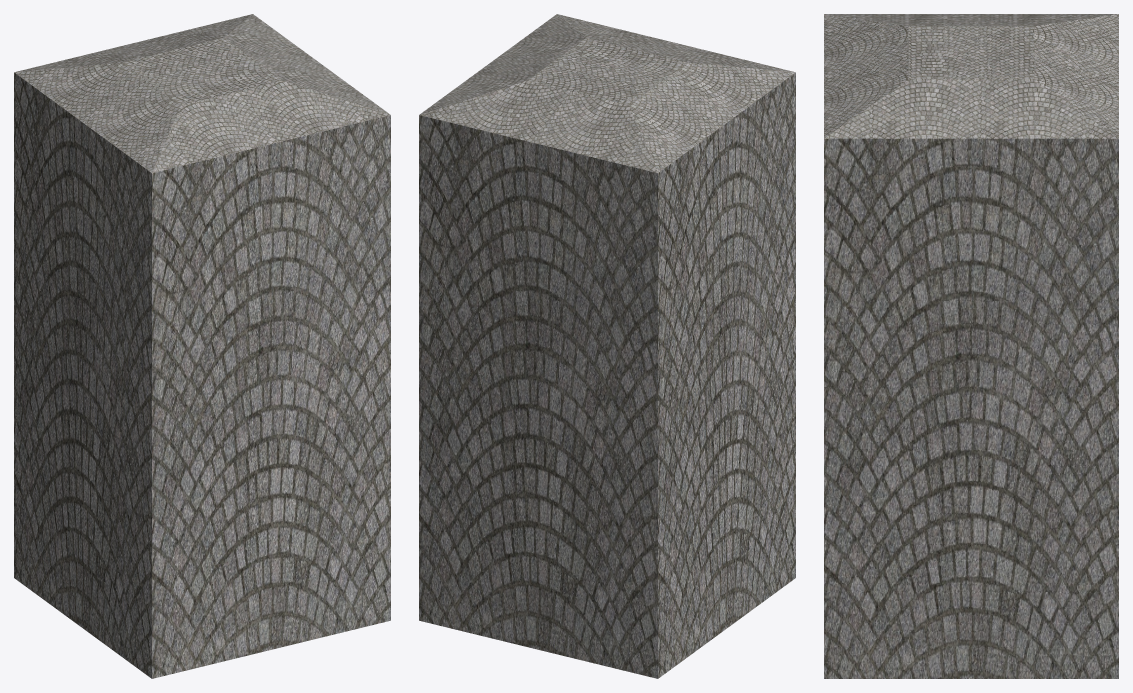
Rendered from binsdamdhkl.fbx.
3 renders of one model, left to right at view 1: azimuth 30°, elevation 25°; view 2: azimuth 150°, elevation 25°; view 3: azimuth 270°, elevation 25°, orthographic. The views are drawn at different scales.
Parts seen in each view (by area): view 1: Cube; view 2: Cube; view 3: Cube.
Part boxes in pixels (<box>): Cube: <box>14,14,390,678</box>; Cube: <box>419,14,795,678</box>; Cube: <box>824,14,1118,678</box>.
Size of the model in its own units: 200 by 422 by 200.
